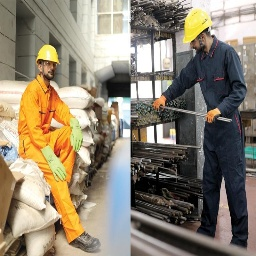helmet: (183, 7, 213, 47), (35, 44, 63, 66)
no-vest: (195, 45, 239, 130)
person: (18, 43, 100, 256), (182, 7, 252, 251)
